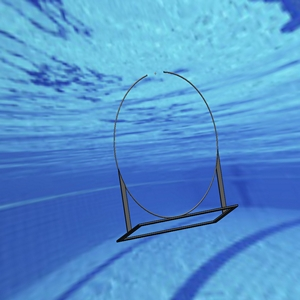circle: (111, 68, 238, 240)
